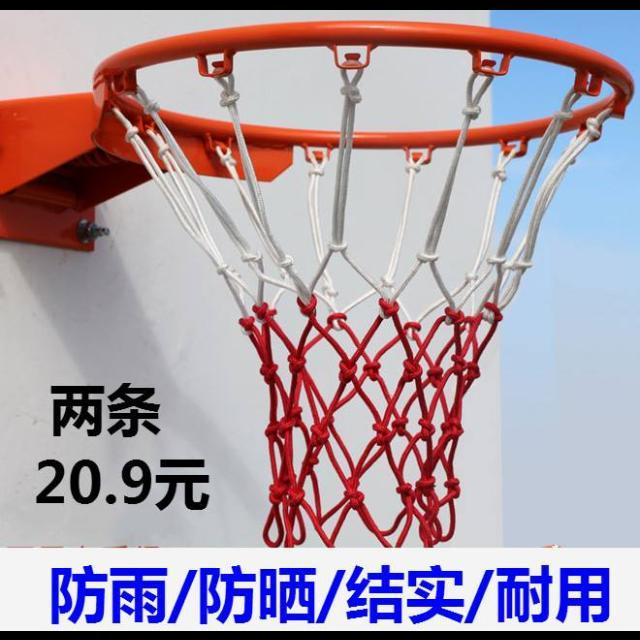rim: (92, 19, 634, 548)
